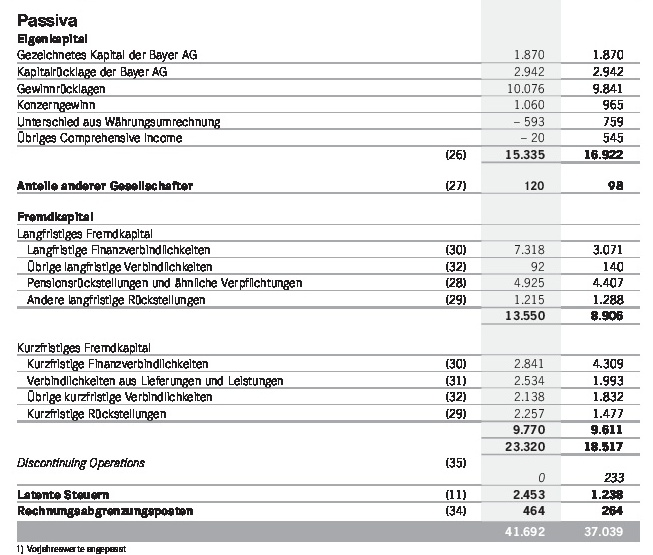table: (0, 0, 653, 555)
